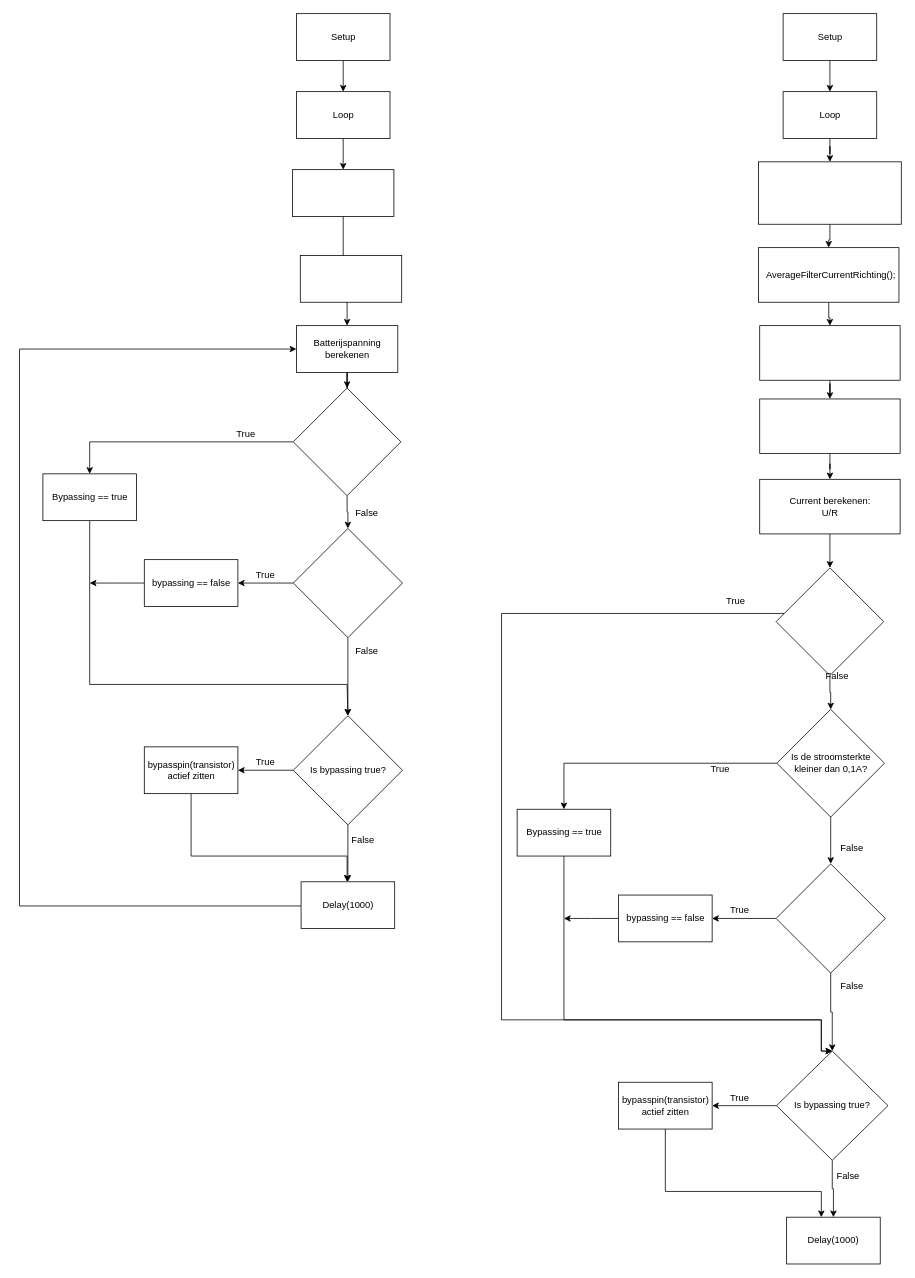
This 915x1278 diagram has some shape labels left out. The centre of each missing label's shape, as x and y in pixels:
AverageFilter(): the point at 351,278
AverageFilterCurrent();: the point at 829,426
Batterijspanning groter dan 3.7v?: the point at 346,441
Batterijspanning kleiner dan 3.5v en bypassing true?: the point at 347,583
CurrentMeasurement(): the point at 343,192
currentMeasurement();: the point at 829,352
CurrentrichtingMeasurement();: the point at 829,192
Is de stroomsterkte groter als 0.4A?: the point at 830,918
IsCharching == true: the point at 829,621
